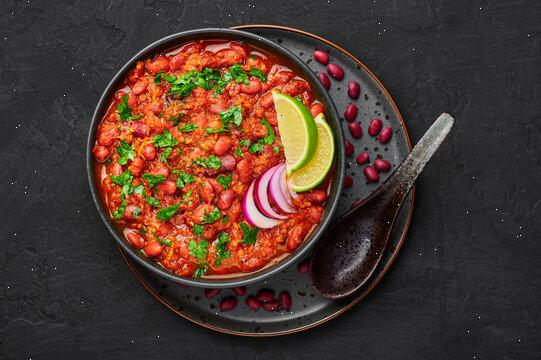rajma: (110, 52, 346, 251)
